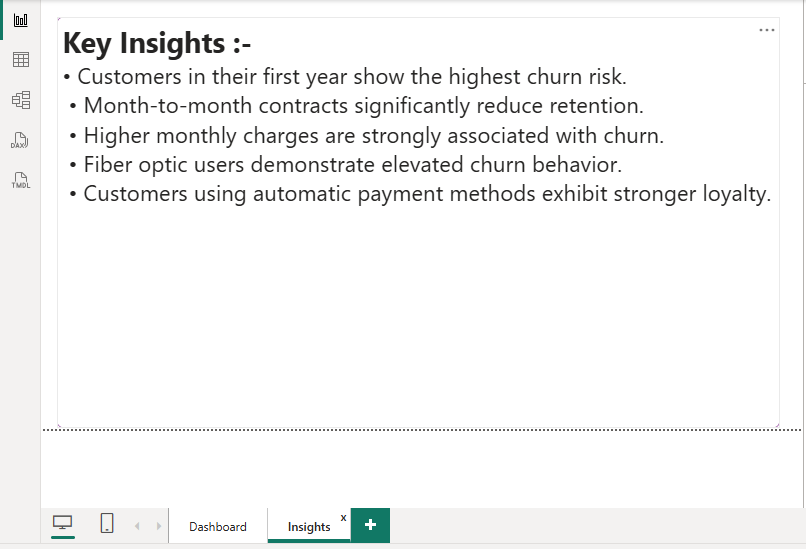

Layout of this report page (visuals, bound fields, positions):
{"tool":"powerbi","page":{"name":"Insights","canvas":[1280,720],"ordinal":1},"visuals":[{"type":"textbox","box":[26.9,28.7,1213.7,690.2],"z":0}]}

Visuals, with their boxes on the page's 1280x720 design canvas (x1, y1, x2, y2). These are canvas units, not pixel positions in the 806x549 screenshot, which may show the page scaled, cropped or inside an application window:
textbox: bbox=[27, 29, 1241, 719]
